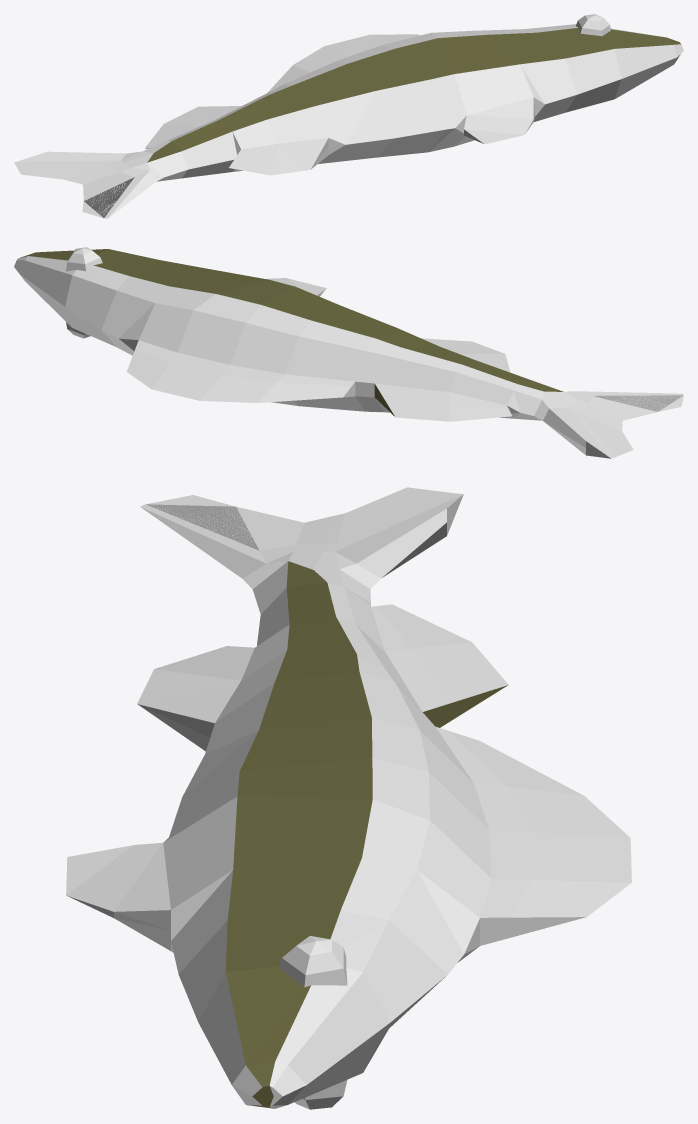
Rendered from KUHA.fbx.
The picture shows the model from 3 angles, top to bottom: view 1: azimuth 30°, elevation 25°; view 2: azimuth 150°, elevation 25°; view 3: azimuth 270°, elevation 25°; orthographic projection. The views are drawn at different scales.
Visible parts, largest first — view 1: Plane; view 2: Plane; view 3: Plane.
Boxes of the visible parts, x1,y1,x2,y2 form: Plane: (14, 14, 683, 218); Plane: (14, 247, 683, 458); Plane: (66, 487, 631, 1109).
Size of the model in its own units: 4.47 by 0.5909 by 1.75.
